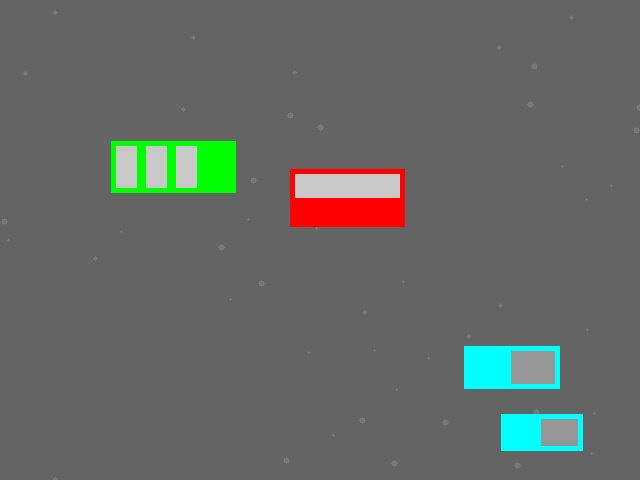bus: (111, 141, 235, 192)
car: (290, 169, 404, 226)
truck: (464, 346, 559, 388), (501, 414, 582, 450)
